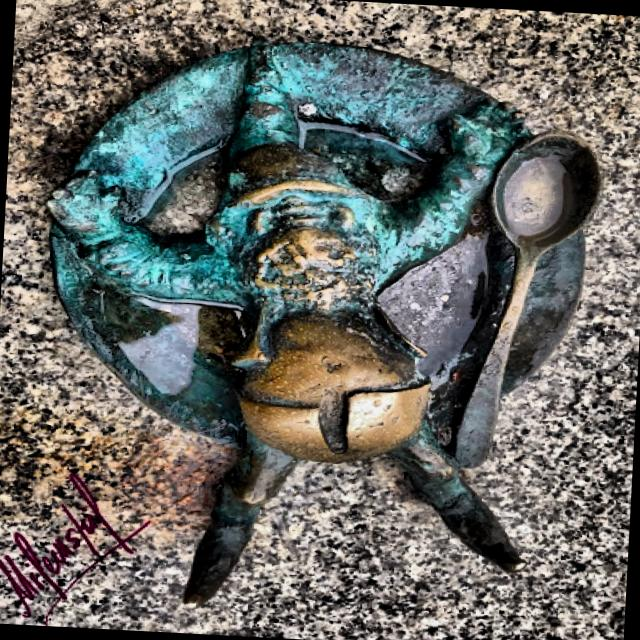Obiezysmak: (48, 39, 602, 608)
